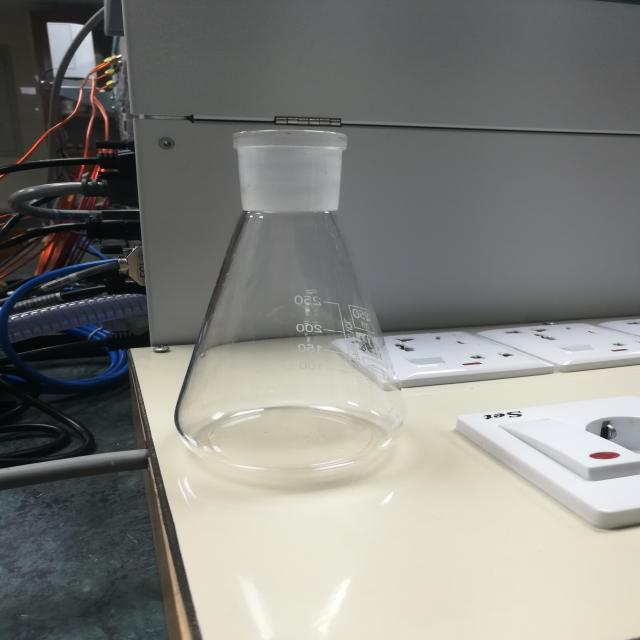Conical_Flask: (138, 89, 459, 509)
